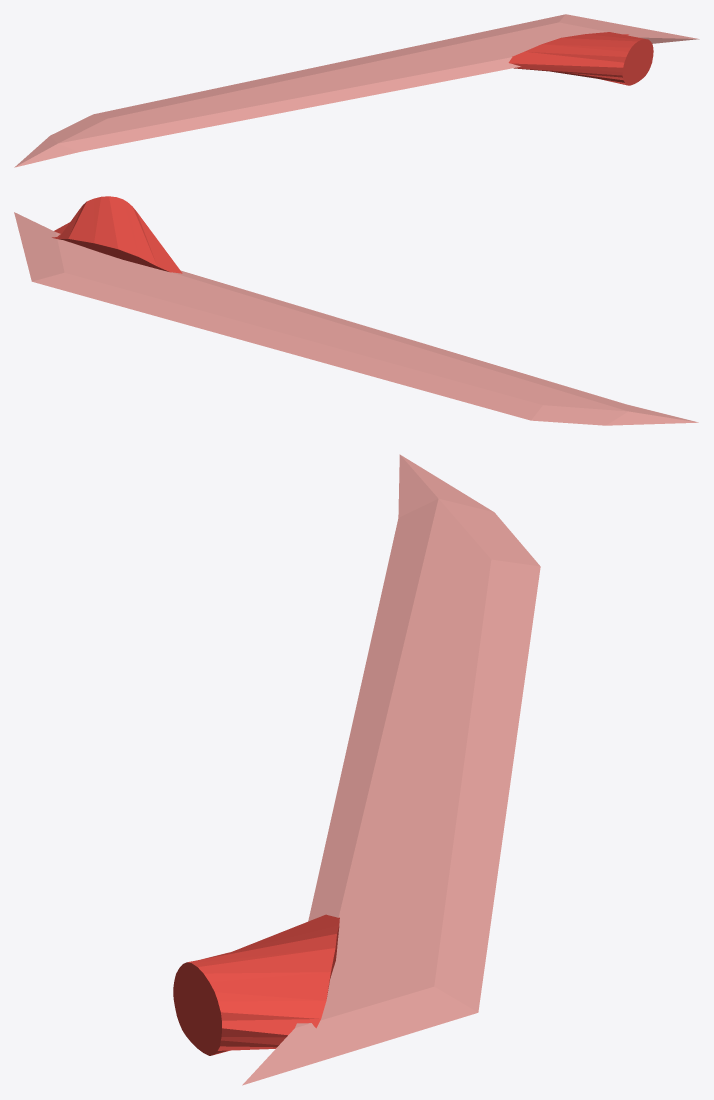
Rendered from Blade.fbx.
3 views of the same model, one above another, from view 1: azimuth 30°, elevation 25°; view 2: azimuth 150°, elevation 25°; view 3: azimuth 270°, elevation 25° (orthographic). The views are drawn at different scales.
Visible parts, largest first — view 1: Cube; view 2: Cube; view 3: Cube.
Part boxes in pixels (box(x1,y1,x2,y2)): Cube: box(14, 14, 699, 167); Cube: box(14, 196, 698, 425); Cube: box(173, 454, 540, 1085).
Bounding box in the file's own units: 1691 × 102 × 416.
